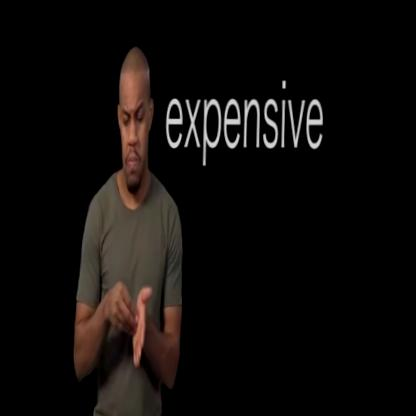Expensive: (101, 261, 167, 374)
